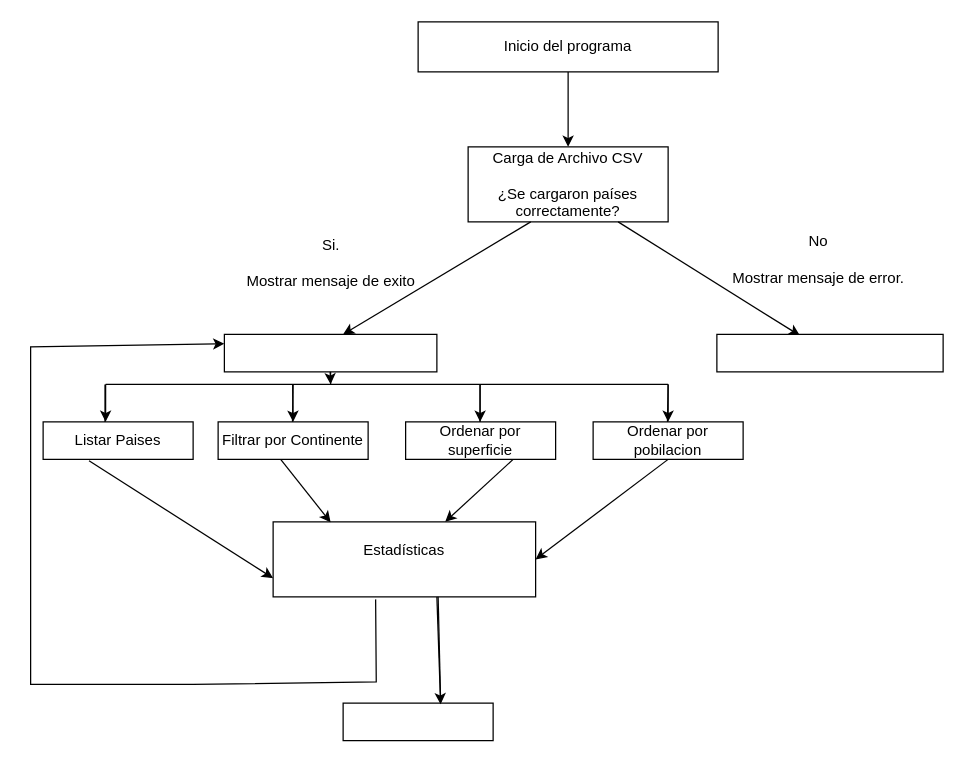
Some shapes in this 965 by 763 pixel diagram are drawn without their labels. Each missing label, with the box of its shape:
Fin del Programa: (716, 333, 943, 372)
Menu principal: (223, 333, 437, 372)
Salir: (342, 702, 493, 741)
